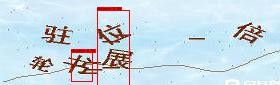chinese: (95, 20, 135, 48), (234, 19, 266, 47), (102, 46, 136, 71), (42, 20, 74, 44), (65, 51, 93, 78), (29, 51, 54, 78)
